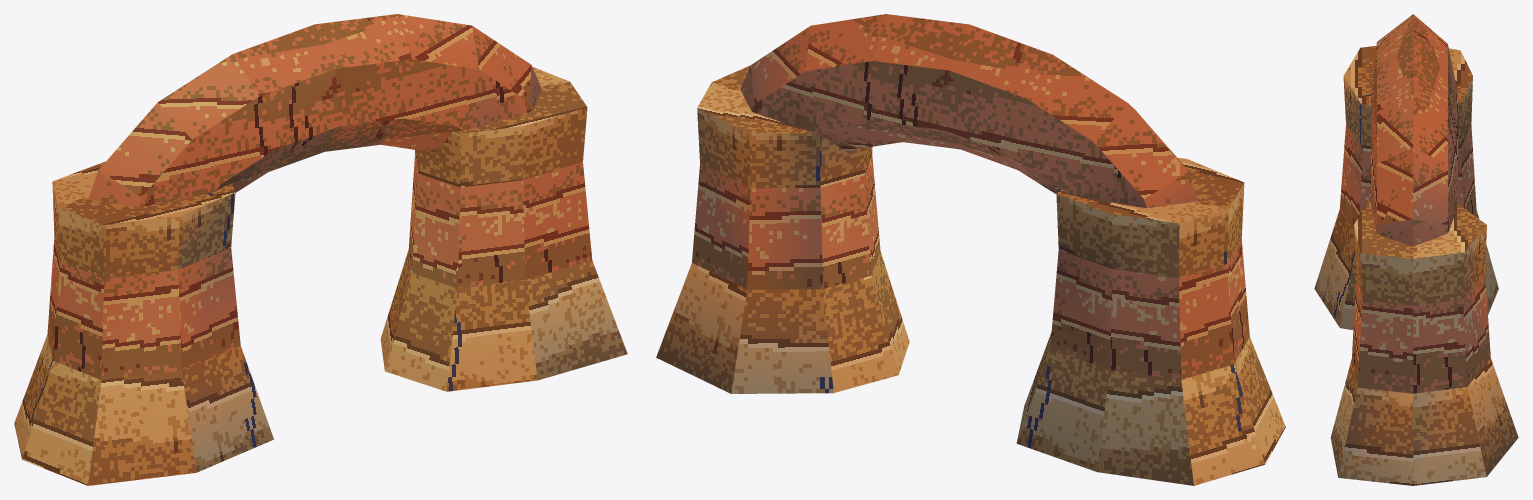
Rendered from wland.arch__small.glb.
3 renders of one model, left to right at view 1: azimuth 30°, elevation 25°; view 2: azimuth 150°, elevation 25°; view 3: azimuth 270°, elevation 25°, orthographic. The views are drawn at different scales.
Visible parts, largest first — view 1: kit_legs, kit_span; view 2: kit_legs, kit_span; view 3: kit_legs, kit_span.
Part boxes in pixels (x1,y1,x2,y2): kit_legs: (14,66,627,485); kit_span: (88,14,541,207); kit_legs: (656,65,1285,485); kit_span: (740,14,1198,208); kit_legs: (1314,46,1518,485); kit_span: (1371,14,1458,246).
Bounding box in the file's own units: 9.96 × 5.96 × 3.48.
3 materials, 3 textured.
